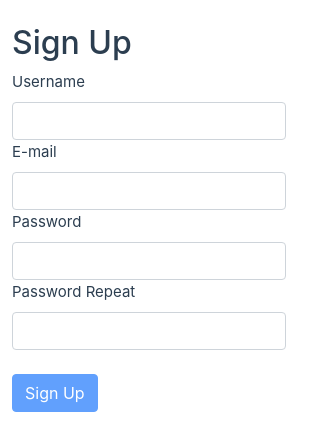
Test: Sign Up Page › Interactions › should be an validation error message for email
Step 1. Type "user1" into the field with id "username" → (149, 121), box [12,102,286,140]
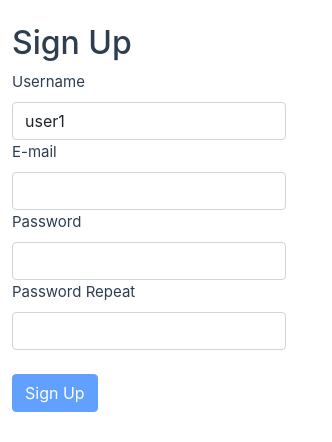
Step 2. Type "user1@mail.com" into the field with id "e-mail" → (149, 191), box [12,172,286,210]
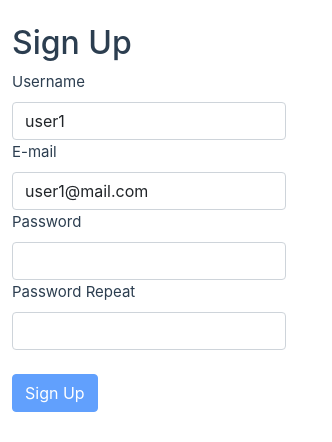
Step 3. Type "P4ssword" into the password field labelled "Password" → (149, 261), box [12,242,286,280]
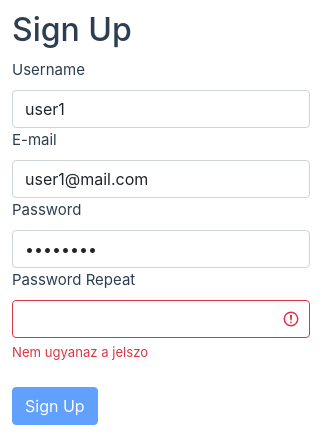
Step 4. Type "P4ssword" into the password field labelled "Password Repeat" → (161, 319), box [12,300,310,338]
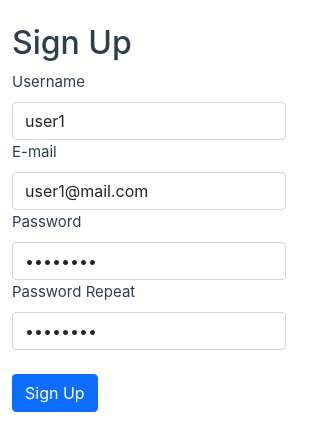
Step 5. Click the button "Sign Up" → click(55, 393), box [12,374,98,412]
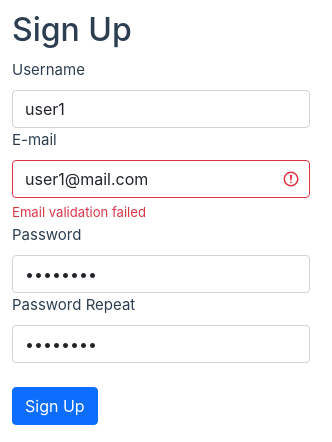
Now the text with id "error" reads "Email validation failed", box [12,204,146,220]
